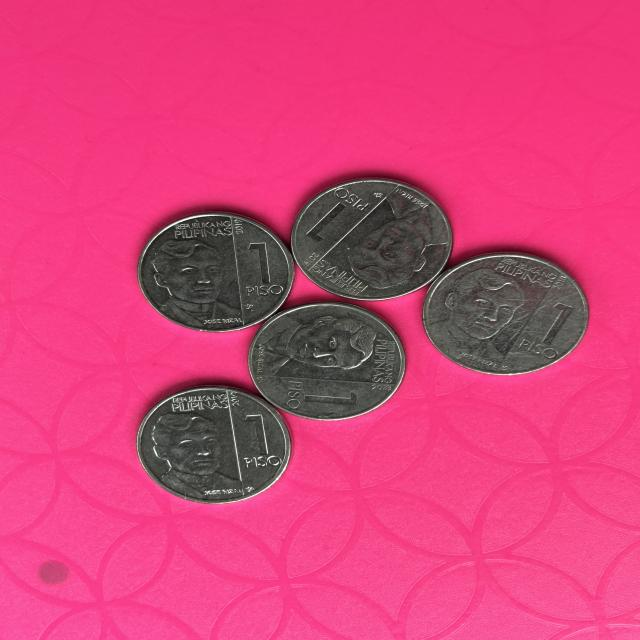1_New_Front: (280, 376, 363, 424), (517, 293, 574, 360), (303, 185, 362, 246), (233, 240, 279, 306), (234, 409, 280, 470)
